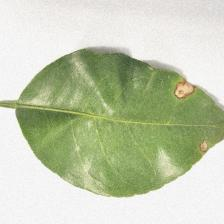canker: (173, 73, 209, 165)
